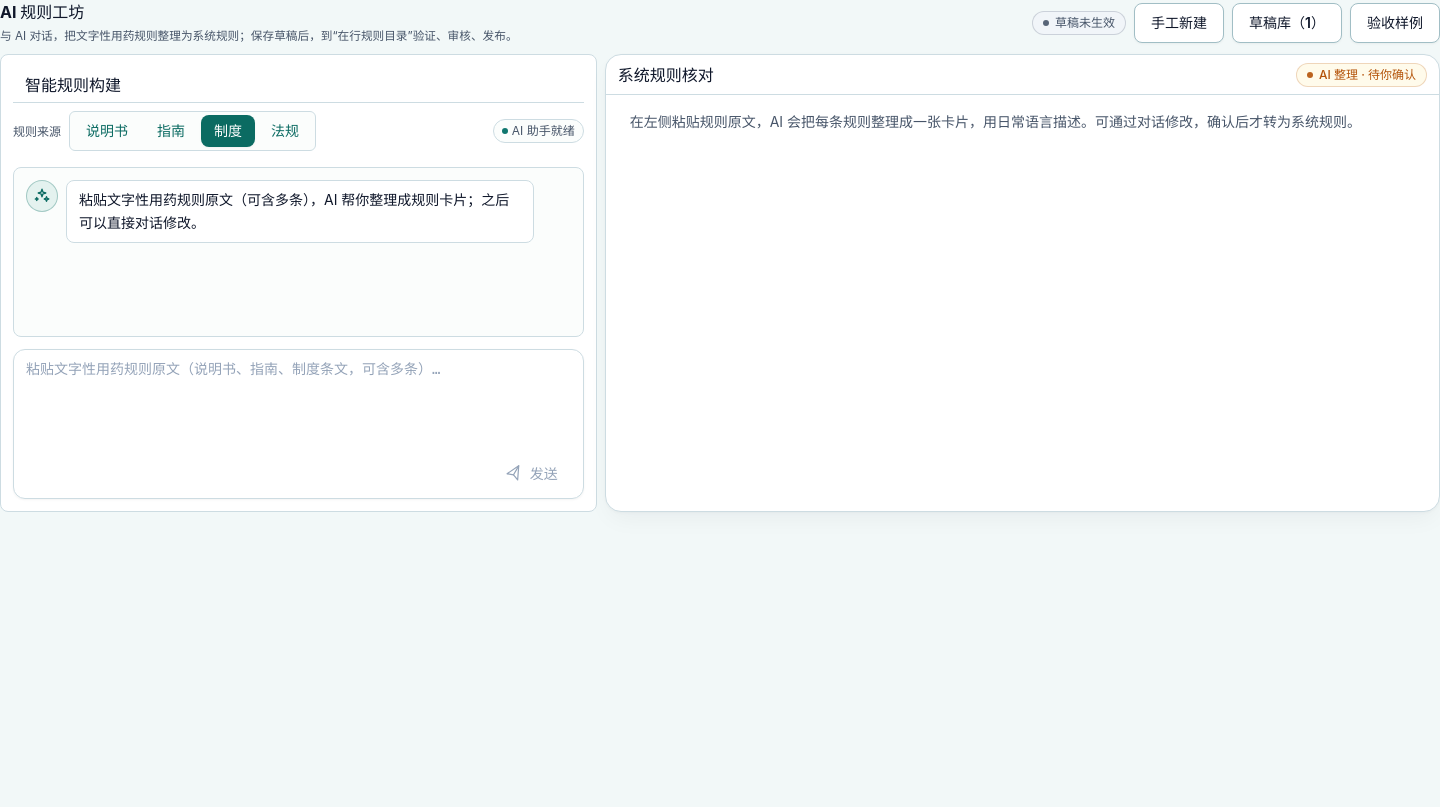
Scenario: universal duplicate drafts do not require forced drug selection and save incomplete structure as drafts
The image size is (1440, 807).
Click the button "手工新建" at point(1179, 23), box x1=1134 y1=3 x2=1224 y2=43
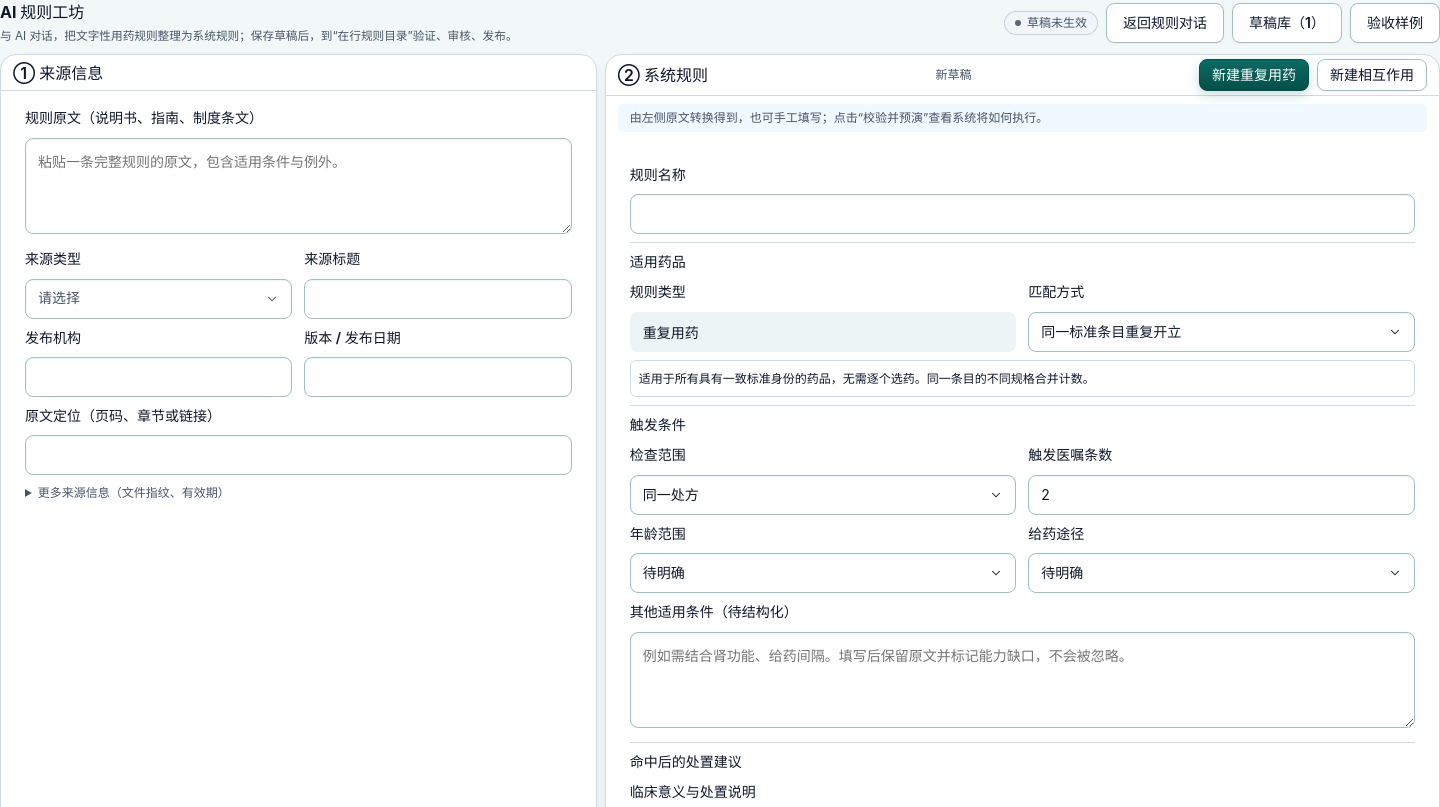
Check: the text "适用于所有具有一致标准身份的药品，无需逐个选药。同一条目的不同规格合并计数。" is shown, box x1=630 y1=360 x2=1415 y2=397
Type "所有标准药品重复开立" into the field named "知识标题" at point(1022, 214), box x1=630 y1=194 x2=1415 y2=234
(page scrolled)
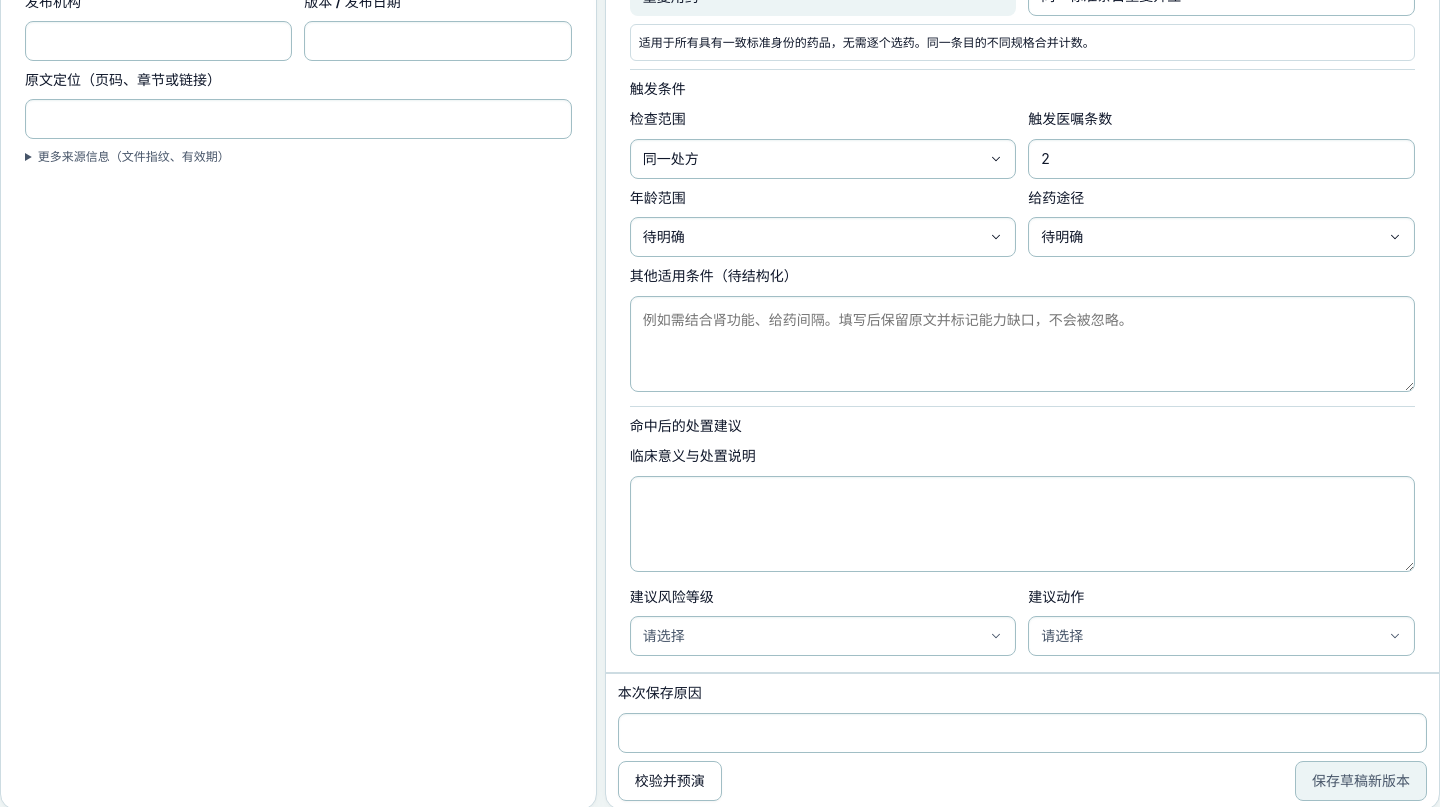
Type "先保留机构需求" into the field labelled "本次保存原因" at point(1022, 733), box x1=618 y1=713 x2=1427 y2=753
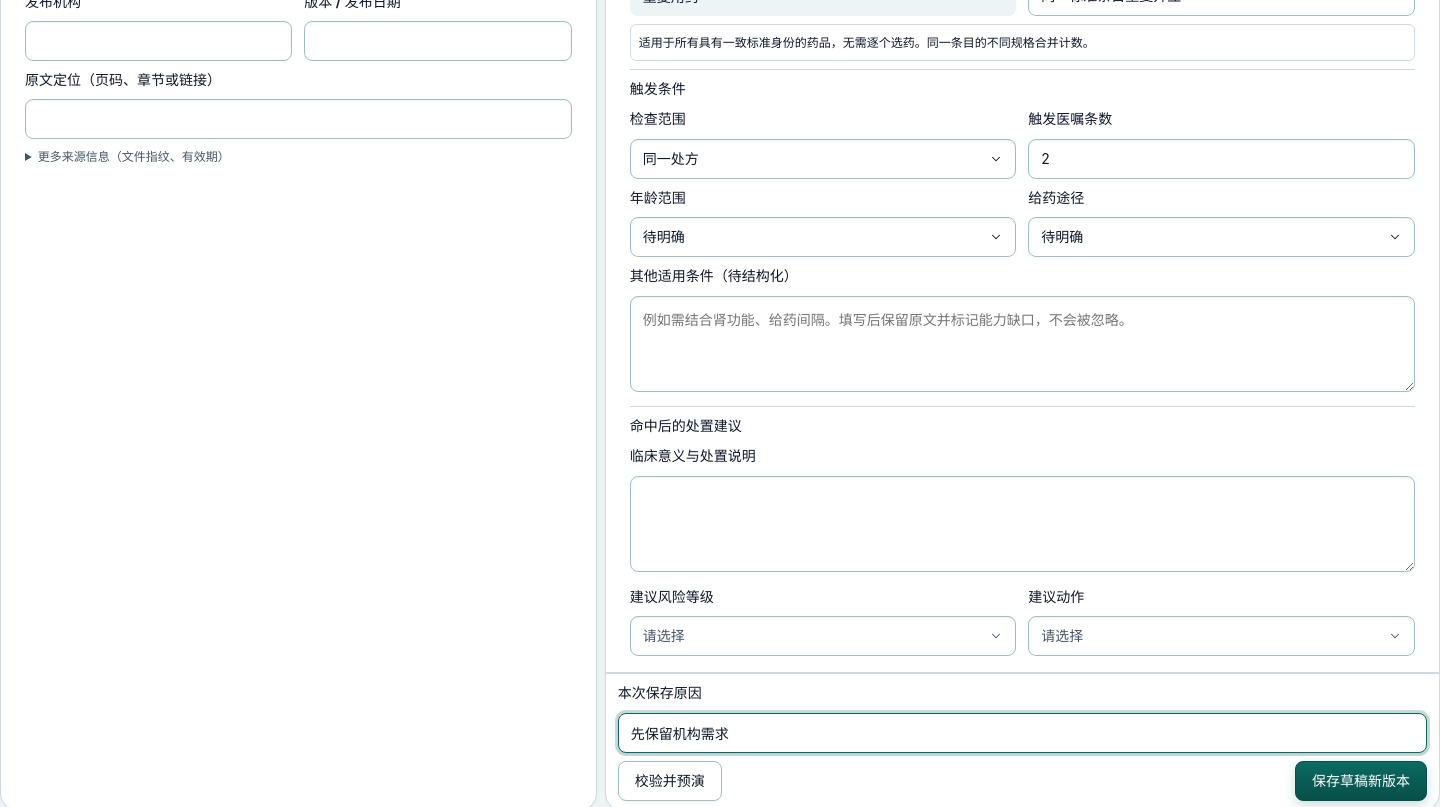
Click the button "保存草稿新版本" at point(1361, 781), box x1=1295 y1=761 x2=1427 y2=801
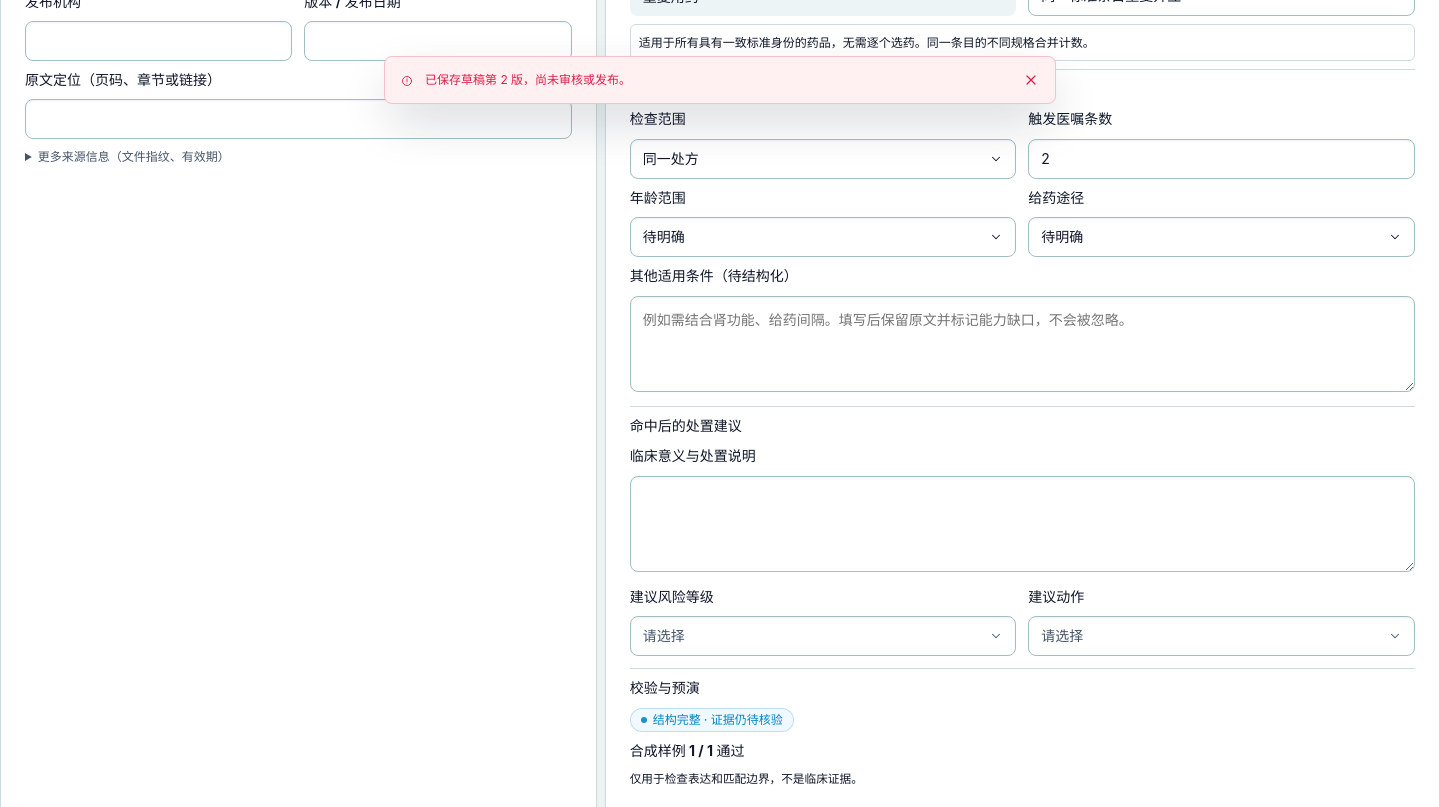
Check: the text "已保存草稿第 2 版，尚未审核或发布。" is shown, box x1=425 y1=72 x2=631 y2=87
